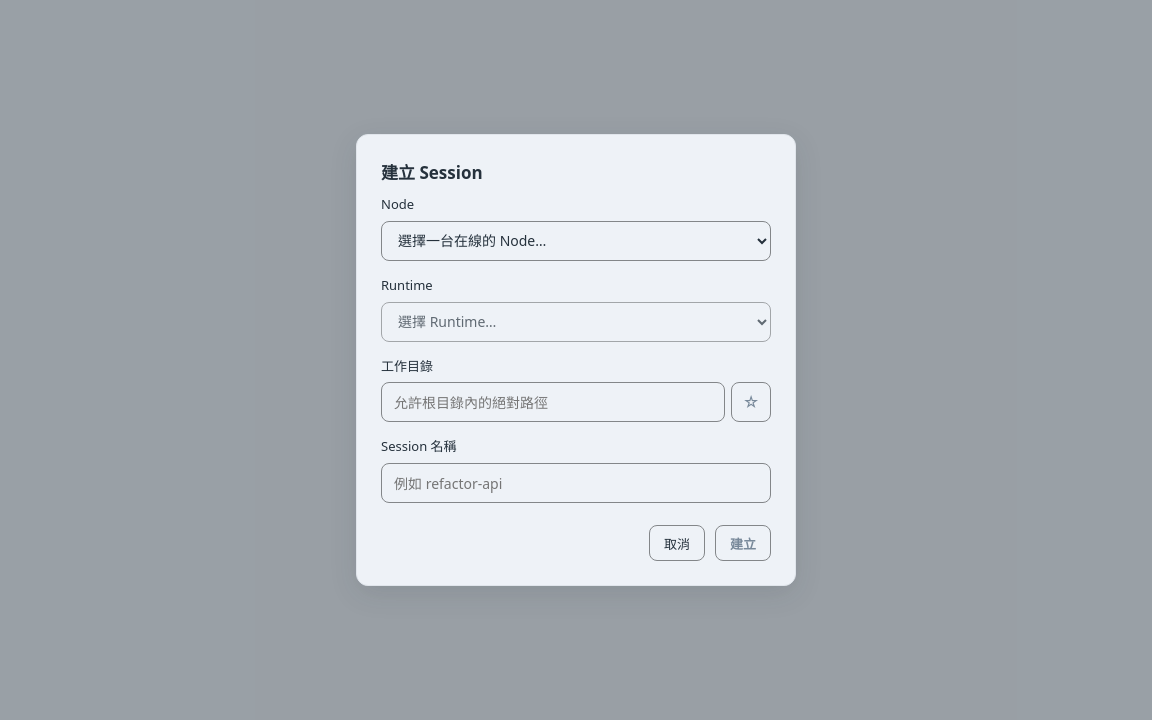
Scenario: NewSessionDialog shortcuts › fills the workspace field when a shortcut is clicked
Select "vm (vm)" in the dropdown labelled "Node" at (576, 241), box [381, 221, 771, 261]
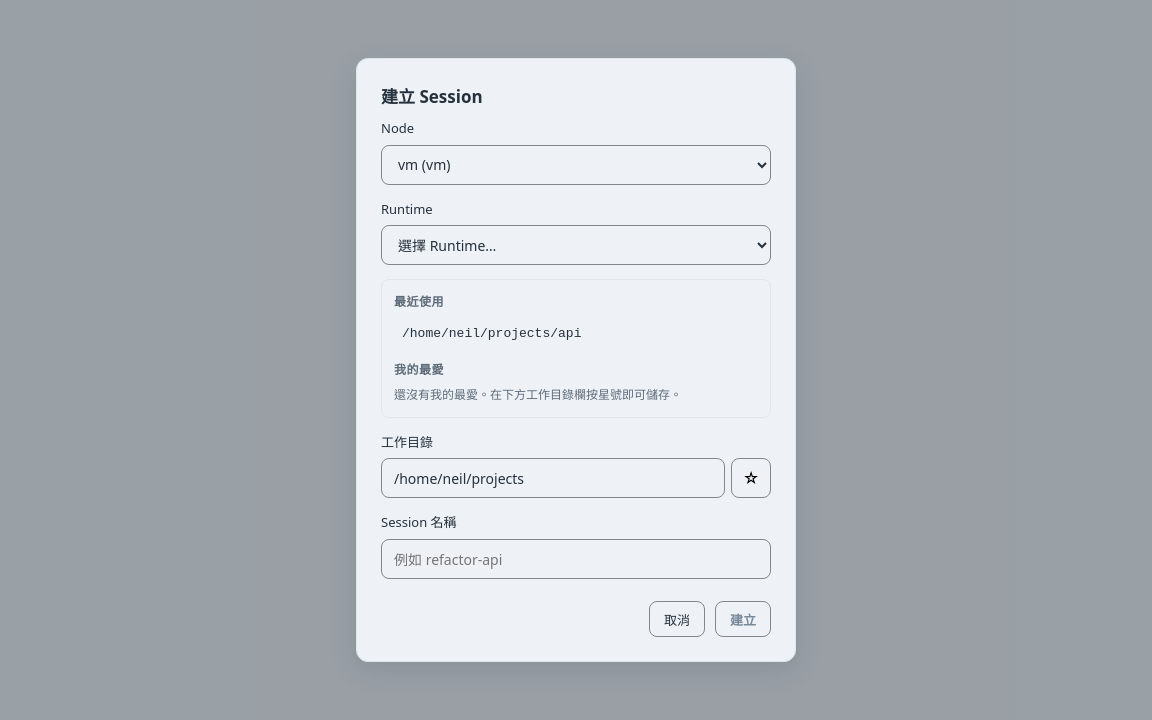
Click the button with class "shortcut" at (576, 334), box [394, 318, 758, 350]
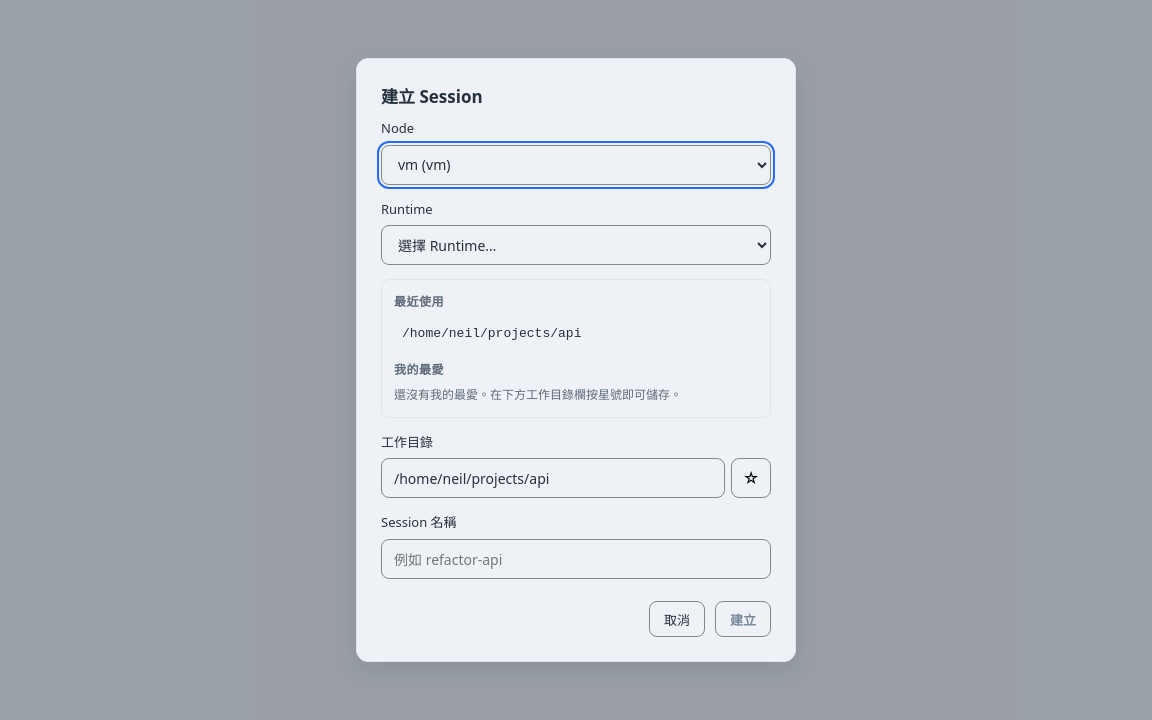
Expected: the field with placeholder "允許根目錄內的絕對路徑" holds "/home/neil/projects/api", [381, 458, 725, 498]
